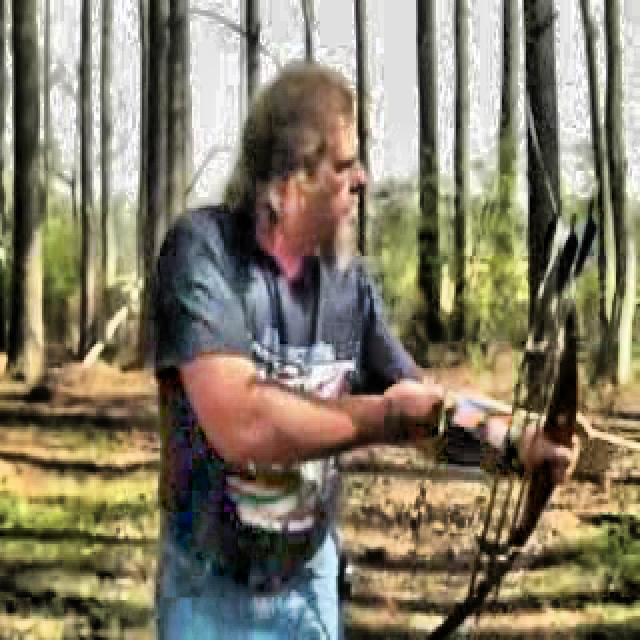I: (132, 58, 594, 594)
